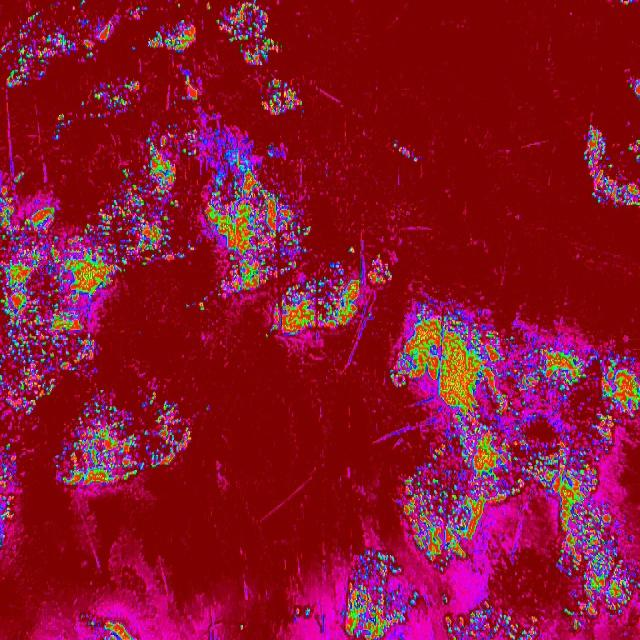fire: (440, 304, 640, 501), (179, 117, 313, 341), (0, 164, 128, 390), (54, 392, 193, 502), (556, 500, 640, 630), (313, 245, 394, 340), (128, 124, 180, 271), (337, 549, 418, 640), (1, 0, 74, 90), (388, 298, 440, 402), (581, 125, 640, 206), (213, 0, 284, 66), (396, 443, 440, 548), (439, 604, 540, 640), (74, 0, 120, 61), (80, 78, 144, 121), (439, 502, 489, 547), (0, 440, 19, 550), (260, 76, 306, 116), (147, 19, 195, 55), (0, 389, 52, 418), (422, 547, 469, 573), (177, 64, 200, 102), (392, 138, 424, 162), (102, 620, 135, 640), (50, 110, 72, 140), (126, 2, 147, 22), (294, 602, 312, 624), (627, 79, 640, 96), (436, 590, 451, 602), (201, 2, 212, 12), (616, 0, 634, 5), (88, 620, 99, 628), (203, 403, 212, 412), (175, 2, 183, 9), (238, 622, 245, 629)
